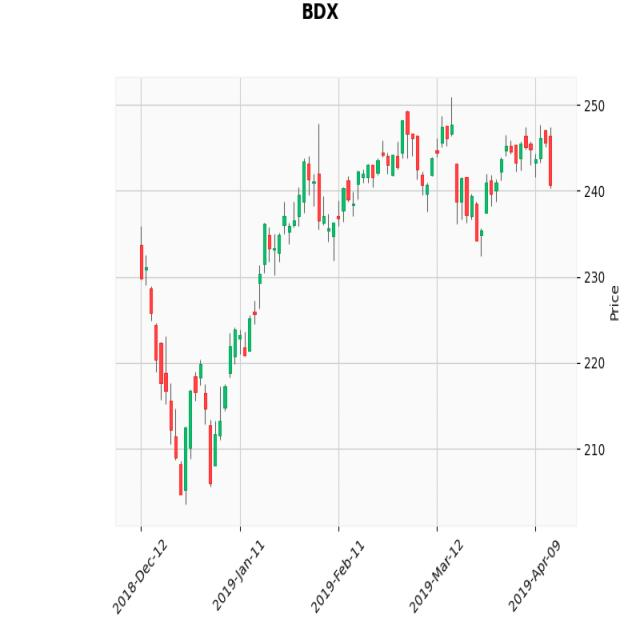Double-Bottom: (149, 324, 239, 506)
